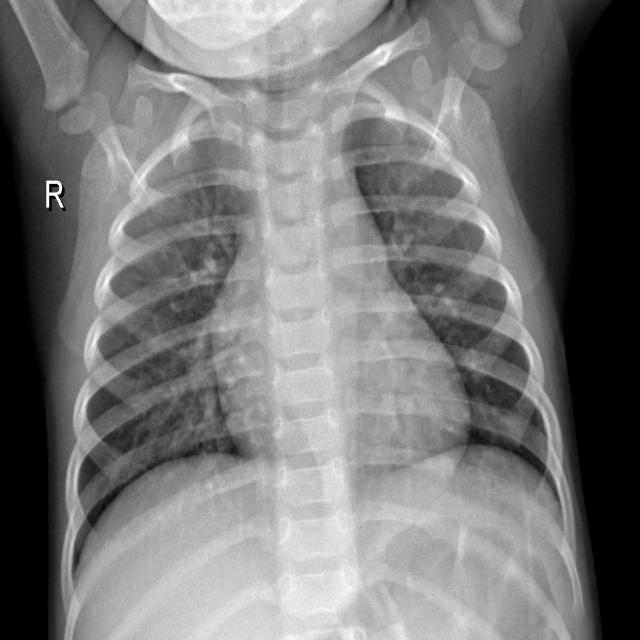normal_lung: (2, 0, 640, 640)
